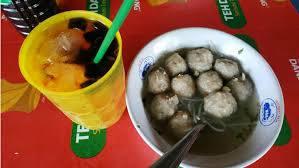bakso: (141, 46, 263, 141)
